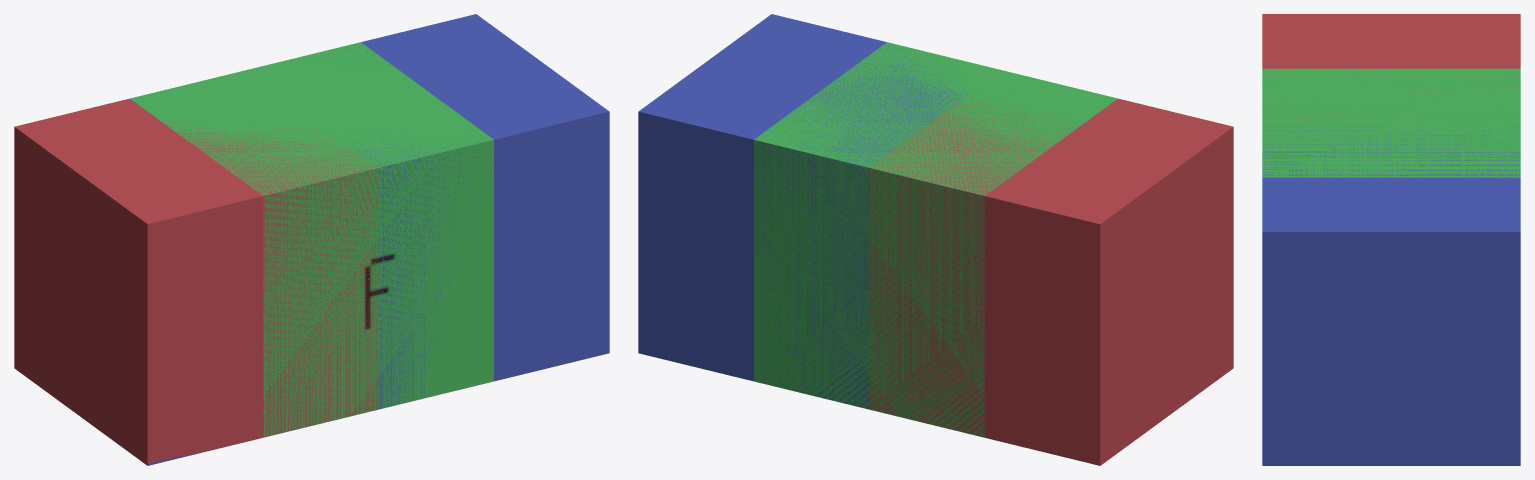
File: simplePlayer.obj
3 views of the same model, side by side, from view 1: azimuth 30°, elevation 25°; view 2: azimuth 150°, elevation 25°; view 3: azimuth 270°, elevation 25° (orthographic). The views are drawn at different scales.
Visible parts, largest first — view 1: Arm_R, Body, Arm_L; view 2: Arm_R, Body, Arm_L; view 3: Arm_L, Body, Arm_R.
Boxes of the visible parts, x1,y1,x2,y2 form: Arm_R: (14,98,378,465); Body: (130,42,493,437); Arm_L: (311,14,609,409); Arm_R: (869,94,1233,465); Body: (754,42,1117,437); Arm_L: (638,14,969,408); Arm_L: (1262,123,1520,465); Body: (1262,68,1520,177); Arm_R: (1262,14,1520,122).
Size of the model in its own units: 2 by 1 by 1.
1 material, 1 textured.
